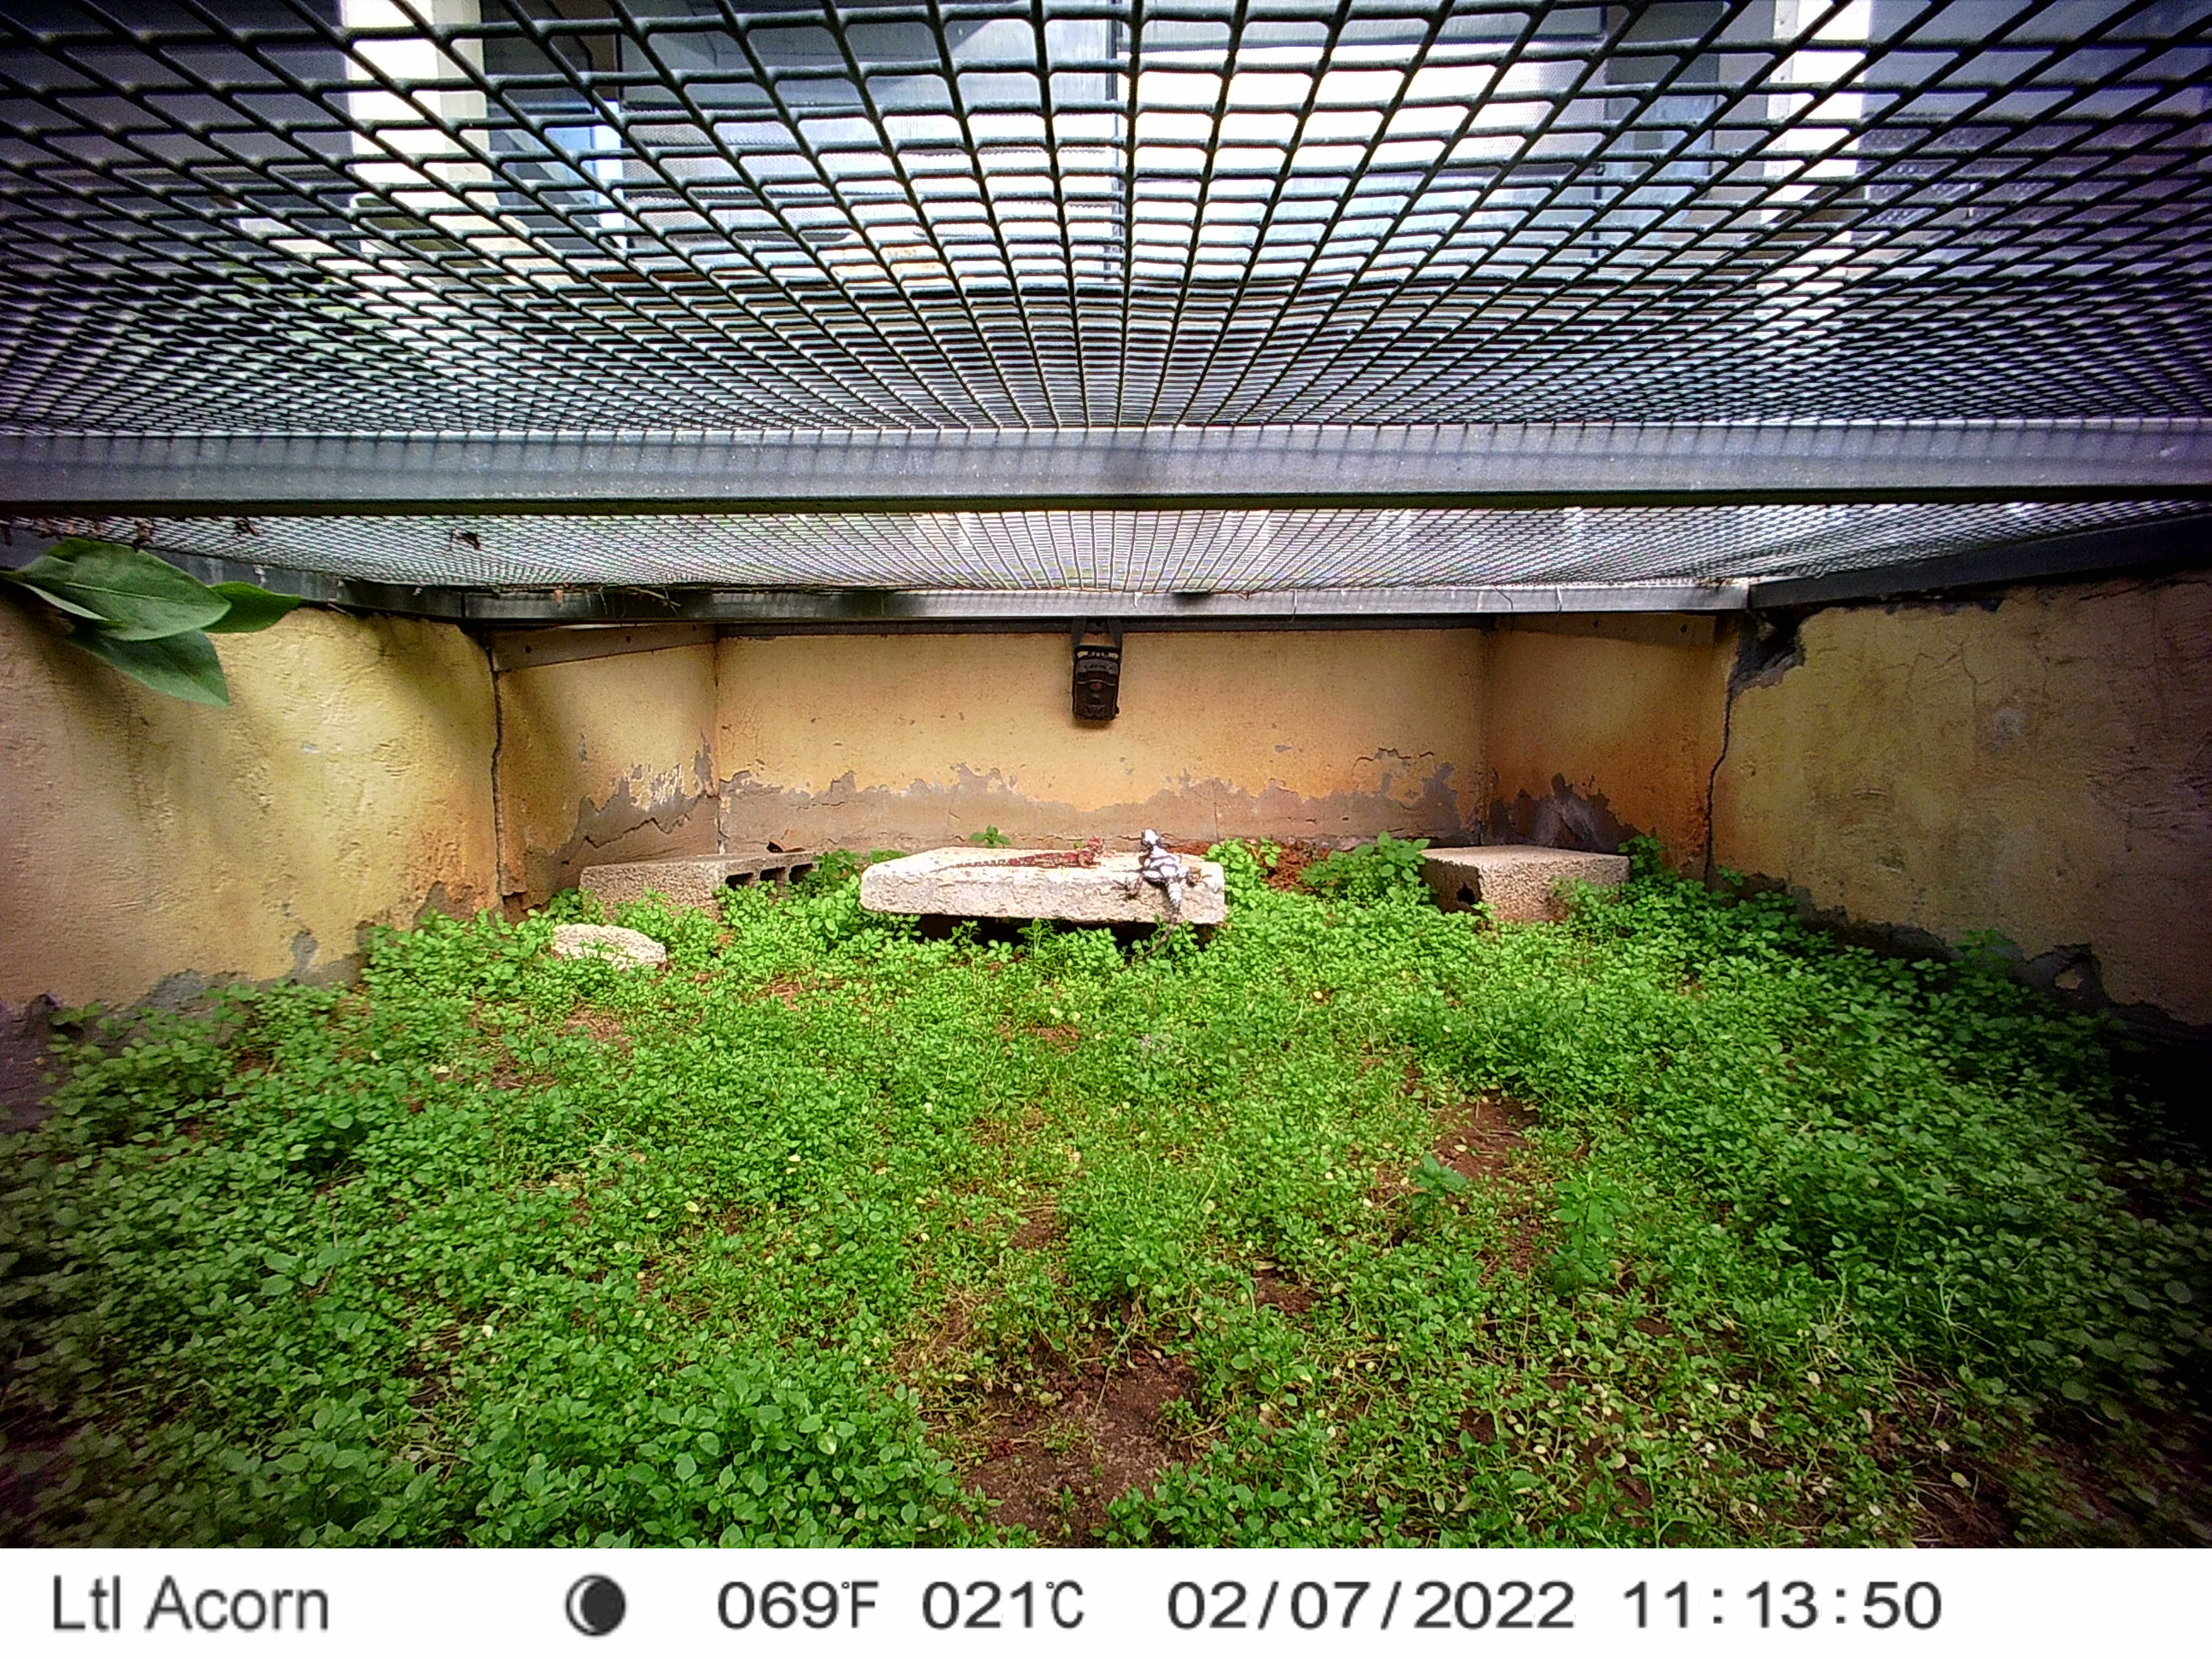lizard: (1111, 824, 1198, 939), (923, 833, 1108, 878)
